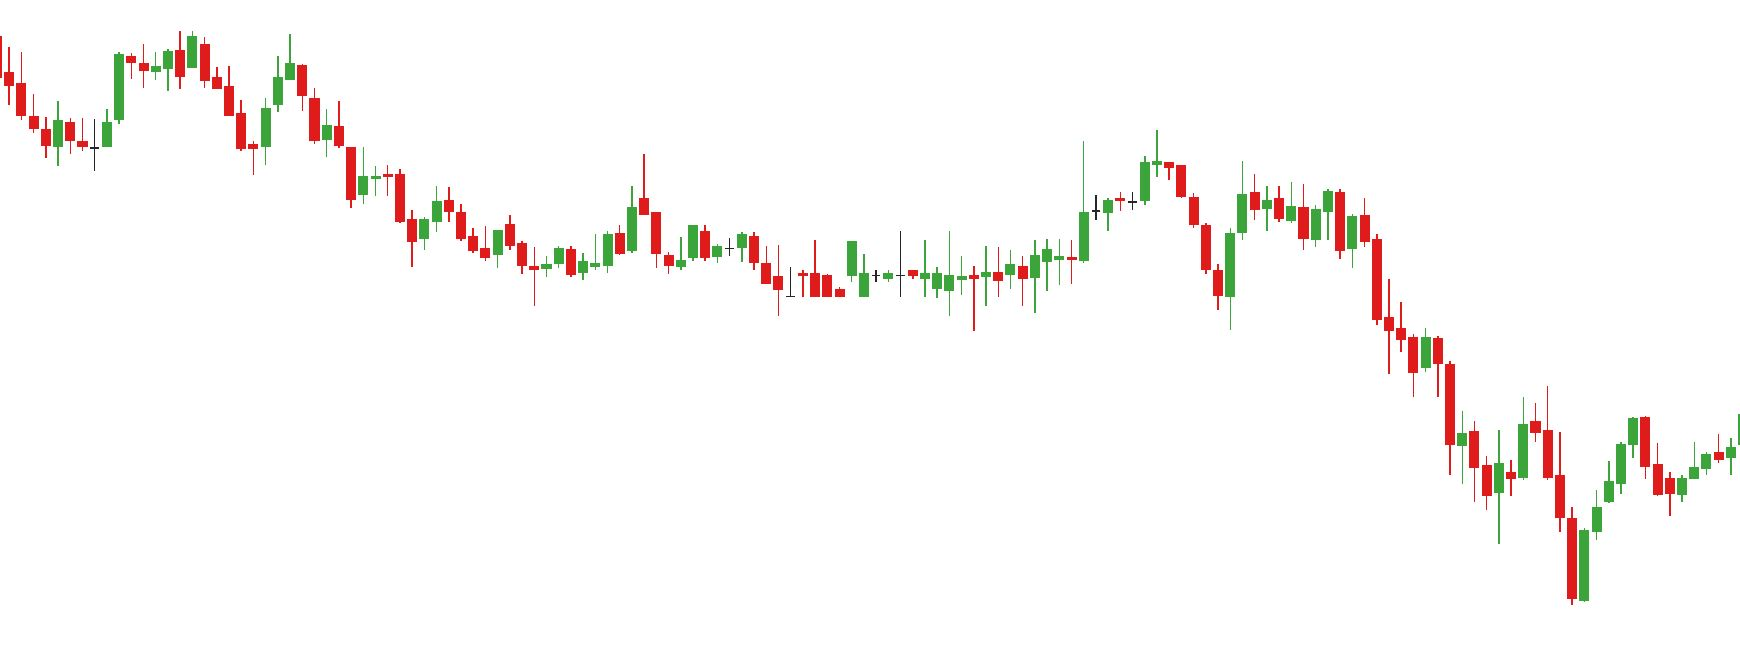buy: (1489, 446, 1591, 609)
